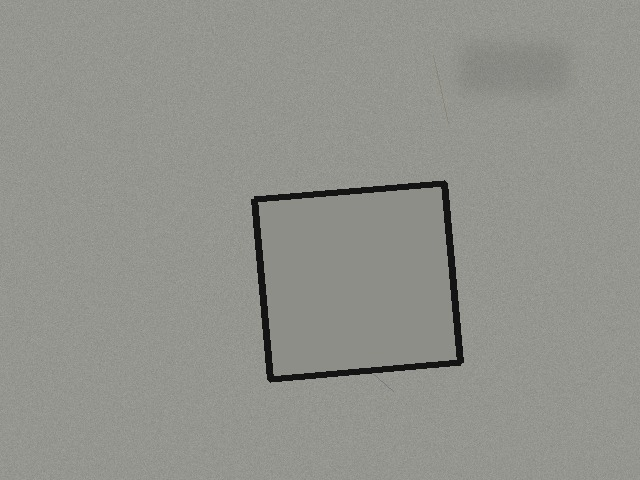parking_area: (254, 183, 460, 379)
